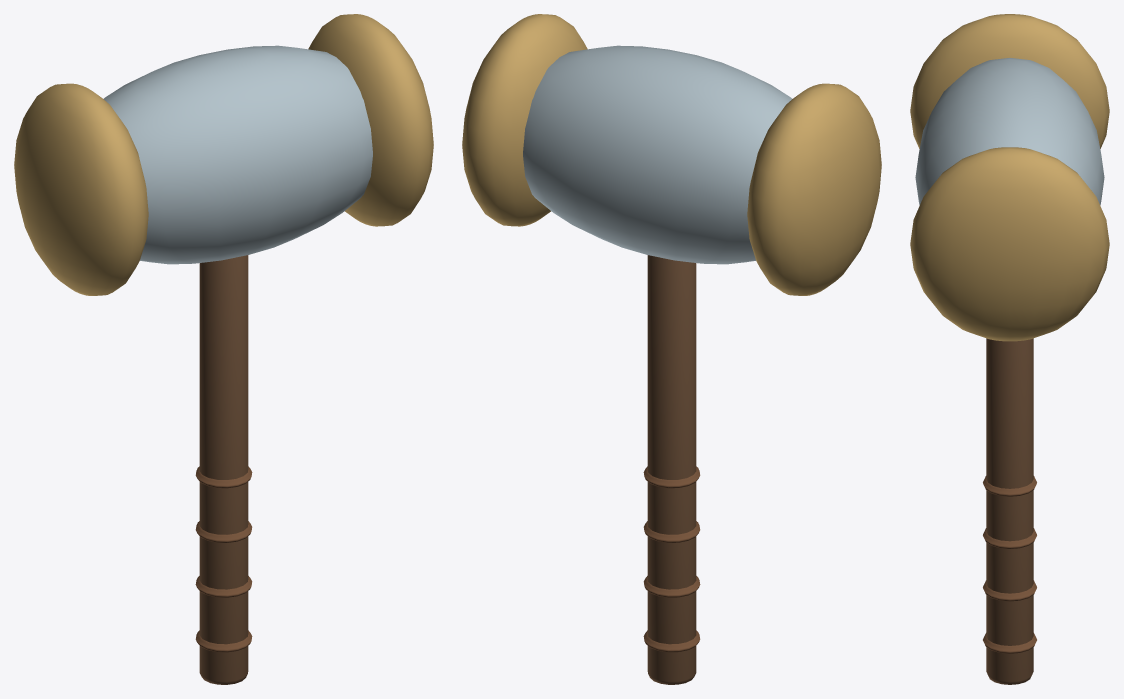
The model's file is war_hammer.glb.
3 views of the same model, side by side, from view 1: azimuth 30°, elevation 25°; view 2: azimuth 150°, elevation 25°; view 3: azimuth 270°, elevation 25° (orthographic). The views are drawn at different scales.
Parts seen in each view (by area): view 1: Warhammer head, Fluted striking face, Bound haft, Fluted striking face.001; view 2: Warhammer head, Fluted striking face, Bound haft, Fluted striking face.001; view 3: Fluted striking face.001, Warhammer head, Bound haft, Fluted striking face, Grip binding, Grip binding.001, Grip binding.003, Grip binding.002.
Boxes of the visible parts, x1,y1,x2,y2 form: Warhammer head: [104, 45, 372, 264]; Fluted striking face: [14, 83, 148, 295]; Bound haft: [199, 255, 248, 684]; Fluted striking face.001: [308, 14, 433, 226]; Warhammer head: [523, 45, 791, 264]; Fluted striking face: [747, 83, 881, 295]; Bound haft: [647, 255, 696, 684]; Fluted striking face.001: [462, 14, 587, 226]; Fluted striking face.001: [910, 147, 1109, 341]; Warhammer head: [915, 58, 1104, 205]; Bound haft: [986, 338, 1033, 684]; Fluted striking face: [910, 14, 1109, 148]; Grip binding: [983, 633, 1036, 653]; Grip binding.001: [983, 580, 1036, 601]; Grip binding.003: [983, 476, 1036, 496]; Grip binding.002: [983, 528, 1036, 548].
Bounding box in the file's own units: 0.78 × 1.25 × 0.38.
